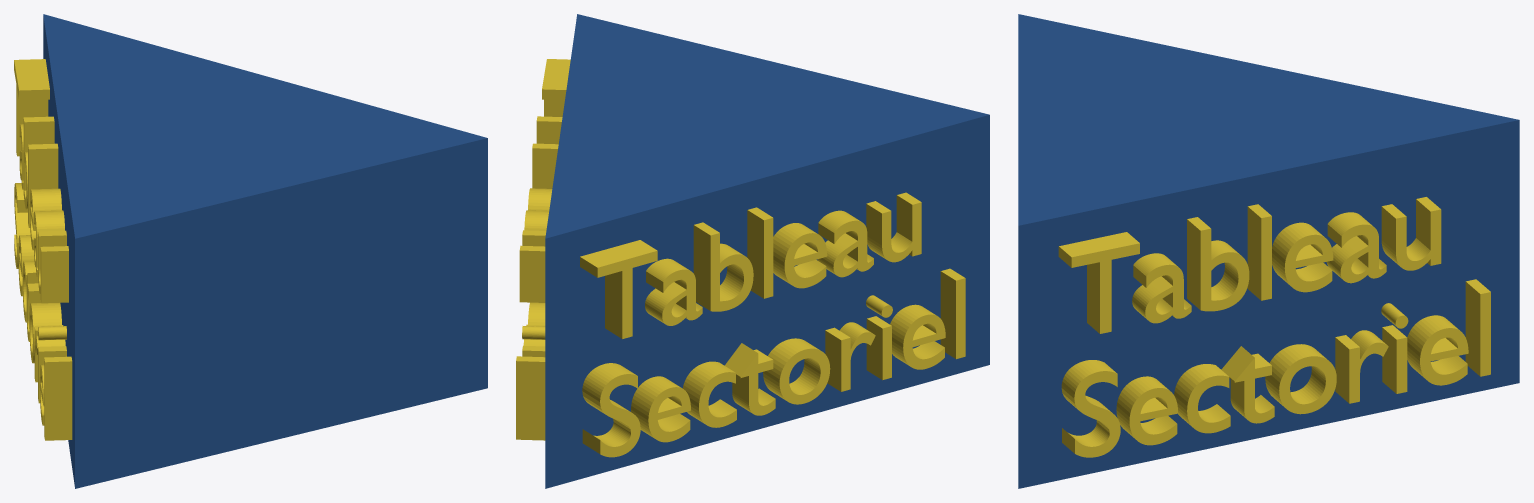
File: Tableau_Sectoriel.fbx
3 views of the same model, side by side, from view 1: azimuth 30°, elevation 25°; view 2: azimuth 150°, elevation 25°; view 3: azimuth 270°, elevation 25° (orthographic). The views are drawn at different scales.
Visible parts, largest first — view 1: Cube, Text.001; view 2: Cube, Text.001, Text; view 3: Cube, Text.
Part boxes in pixels (left/top/right/bottom): Cube: left=43, top=14, right=487, bottom=488; Text.001: left=14, top=59, right=72, bottom=440; Cube: left=545, top=14, right=989, bottom=488; Text.001: left=580, top=192, right=965, bottom=457; Text: left=516, top=59, right=570, bottom=440; Cube: left=1018, top=14, right=1519, bottom=488; Text: left=1058, top=197, right=1490, bottom=457.
Bounding box in the file's own units: 64.56 × 36.7 × 63.36.
